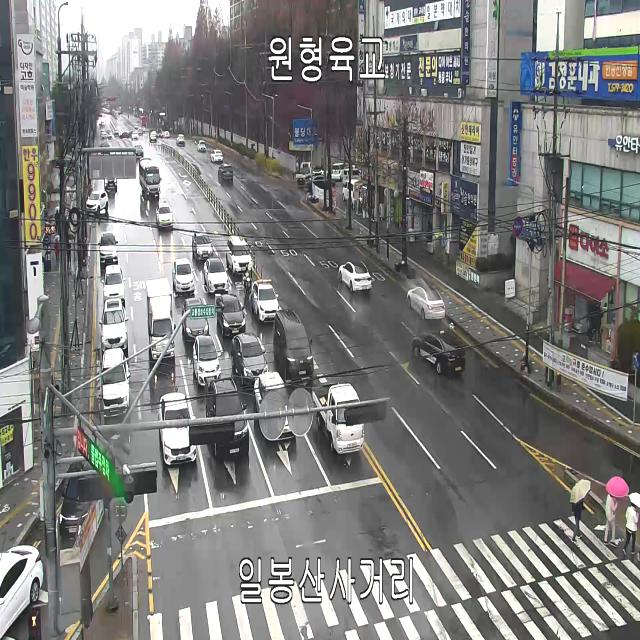Bus: (139, 157, 162, 196)
Car: (0, 544, 43, 639), (205, 377, 249, 459), (158, 392, 197, 466), (253, 371, 294, 441), (273, 310, 314, 380), (412, 329, 465, 376), (58, 477, 93, 542), (101, 348, 131, 418), (232, 332, 268, 386), (99, 297, 129, 352), (192, 334, 222, 386), (407, 286, 445, 321), (250, 279, 280, 323), (216, 294, 246, 337), (182, 297, 208, 343), (338, 260, 372, 293), (226, 236, 252, 275), (101, 265, 126, 303), (204, 258, 229, 294), (173, 258, 195, 293), (98, 230, 118, 265), (192, 230, 213, 262), (342, 179, 362, 206), (86, 190, 108, 214), (156, 198, 173, 229), (342, 169, 362, 186), (306, 173, 328, 187), (218, 163, 233, 182), (332, 162, 344, 182), (210, 149, 223, 163), (313, 167, 328, 179), (104, 178, 117, 189), (134, 145, 144, 158), (100, 143, 110, 154), (197, 140, 206, 152), (176, 134, 185, 145), (149, 130, 157, 142), (131, 131, 139, 140), (348, 164, 360, 169)
Motorcycle: (244, 264, 250, 296)
Truck: (312, 384, 365, 454), (146, 276, 175, 361), (296, 161, 314, 186)
